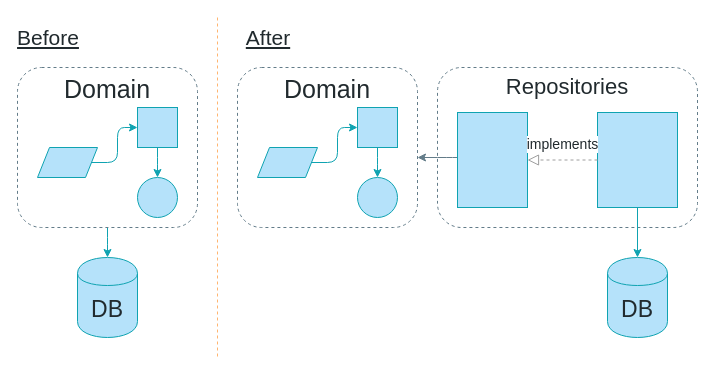
Some shapes in this 715 by 376 pixel diagram are drawn without their labels. Each missing label, with the centre of its shape:
"Abstract Repository" goes at point (492, 160).
"SQLAlchemy Repository" goes at point (637, 160).
